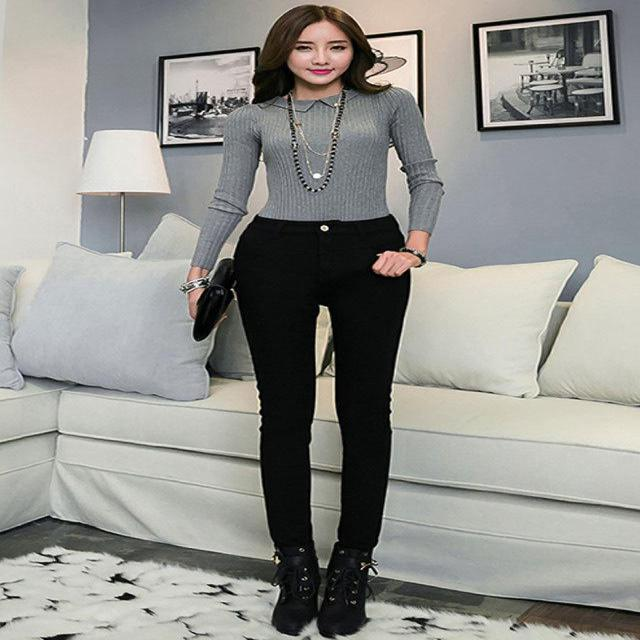long sleeve top: (191, 84, 442, 271)
trousers: (238, 214, 404, 563)
